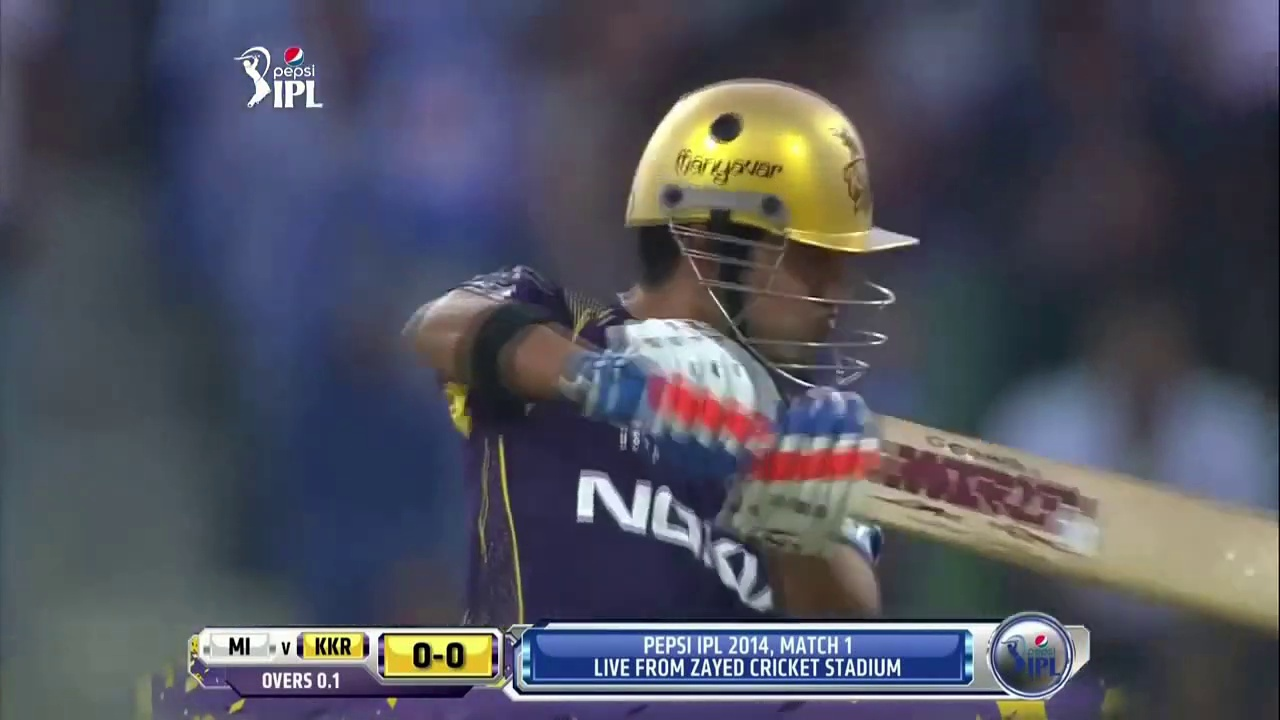bat: (888, 412, 1280, 601)
